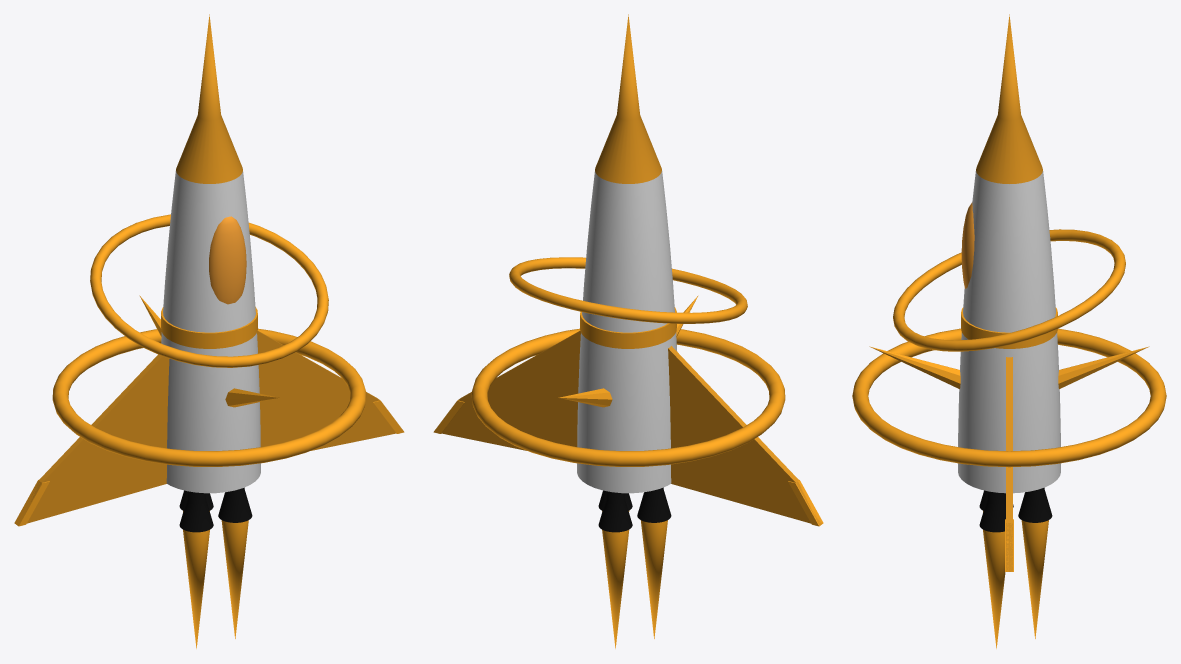
Rendered from Rocket_40_UltimateLegend.obj.
3 views of the same model, side by side, from view 1: azimuth 30°, elevation 25°; view 2: azimuth 150°, elevation 25°; view 3: azimuth 270°, elevation 25° (orthographic).
Visible parts, largest first — view 1: R40_Body, R40_Fin_2, R40_Halo_1, R40_Fin_1, R40_Halo_2, R40_Nose, R40_Cockpit, R40_Band_1, R40_Flame_3, R40_Flame_2, R40_Nozzle_2, R40_Nozzle_3 (+2 smaller); view 2: R40_Body, R40_Fin_2, R40_Halo_1, R40_Fin_1, R40_Halo_2, R40_Nose, R40_Flame_1, R40_Flame_2, R40_Band_1, R40_Nozzle_1, R40_Nozzle_2, R40_Spike_1; view 3: R40_Body, R40_Halo_1, R40_Halo_2, R40_Nose, R40_Flame_1, R40_Flame_3, R40_Fin_1, R40_Spike_1, R40_Spike_2, R40_Band_1, R40_Nozzle_1, R40_Nozzle_3 (+1 smaller).
Boxes of the visible parts, bbox=[...] form: R40_Body: bbox=[161, 171, 260, 493]; R40_Fin_2: bbox=[27, 354, 169, 523]; R40_Halo_1: bbox=[52, 328, 366, 466]; R40_Fin_1: bbox=[257, 331, 396, 450]; R40_Halo_2: bbox=[90, 214, 328, 367]; R40_Nose: bbox=[176, 14, 242, 183]; R40_Cockpit: bbox=[209, 216, 246, 304]; R40_Band_1: bbox=[161, 306, 257, 348]; R40_Flame_3: bbox=[221, 520, 248, 638]; R40_Flame_2: bbox=[183, 529, 209, 648]; R40_Nozzle_2: bbox=[179, 491, 213, 532]; R40_Nozzle_3: bbox=[218, 487, 252, 522]; R40_Body: bbox=[577, 171, 677, 493]; R40_Fin_2: bbox=[668, 346, 822, 525]; R40_Halo_1: bbox=[471, 328, 785, 466]; R40_Fin_1: bbox=[441, 331, 580, 450]; R40_Halo_2: bbox=[509, 257, 747, 323]; R40_Nose: bbox=[595, 14, 661, 183]; R40_Flame_1: bbox=[602, 529, 629, 648]; R40_Flame_2: bbox=[640, 520, 667, 638]; R40_Band_1: bbox=[580, 307, 676, 348]; R40_Nozzle_1: bbox=[598, 491, 632, 532]; R40_Nozzle_2: bbox=[637, 487, 671, 522]; R40_Spike_1: bbox=[558, 388, 612, 407]; R40_Body: bbox=[958, 171, 1060, 493]; R40_Halo_1: bbox=[852, 328, 1166, 467]; R40_Halo_2: bbox=[893, 229, 1125, 351]; R40_Nose: bbox=[976, 14, 1042, 183]; R40_Flame_1: bbox=[1021, 520, 1048, 638]; R40_Flame_3: bbox=[983, 529, 1005, 648]; R40_Fin_1: bbox=[1006, 357, 1012, 571]; R40_Spike_1: bbox=[1058, 346, 1149, 389]; R40_Spike_2: bbox=[869, 346, 960, 389]; R40_Band_1: bbox=[961, 307, 1057, 348]; R40_Nozzle_1: bbox=[1018, 487, 1052, 522]; R40_Nozzle_3: bbox=[979, 491, 1005, 532].
Bounding box in the file's own units: 7.77 × 12.05 × 5.48.
